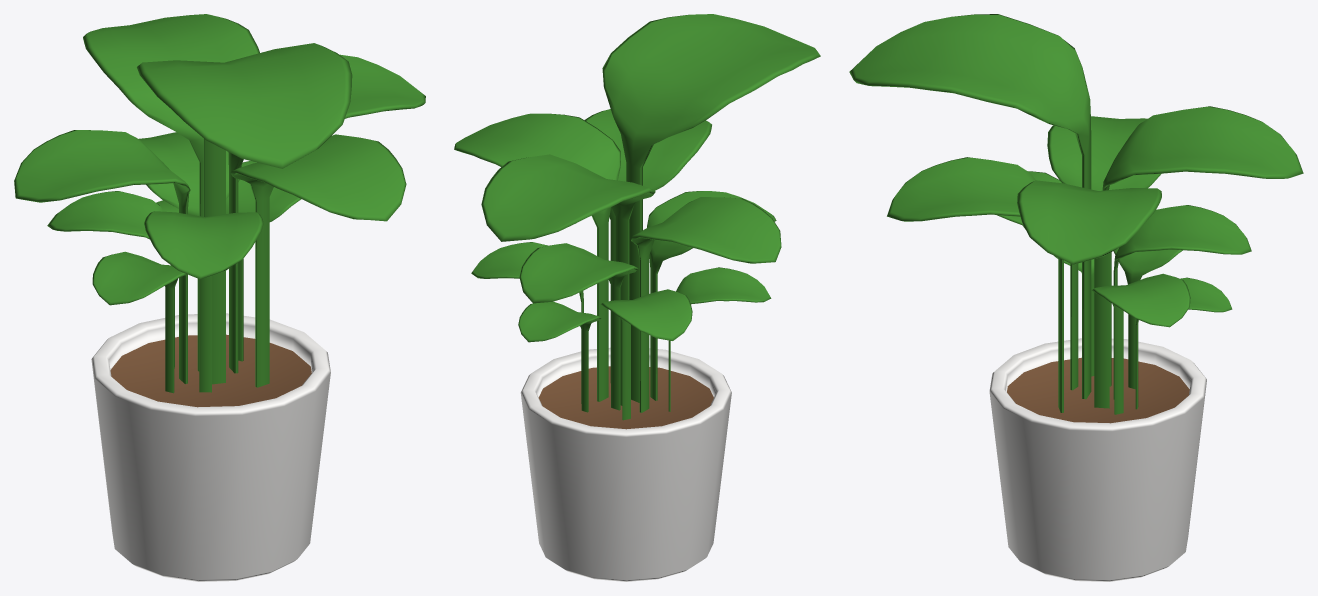
The model's file is Plant_6.glb.
3 renders of one model, left to right at view 1: azimuth 30°, elevation 25°; view 2: azimuth 150°, elevation 25°; view 3: azimuth 270°, elevation 25°, orthographic. The views are drawn at different scales.
Visible parts, largest first — view 1: Plant_6; view 2: Plant_6; view 3: Plant_6.
Part boxes in pixels (x1=…): Plant_6: x1=14, y1=14, x2=425, y2=581; Plant_6: x1=454, y1=14, x2=820, y2=581; Plant_6: x1=849, y1=14, x2=1303, y2=581.
Bounding box in the file's own units: 1.33 × 1.75 × 1.5.
1 material, 1 textured.
